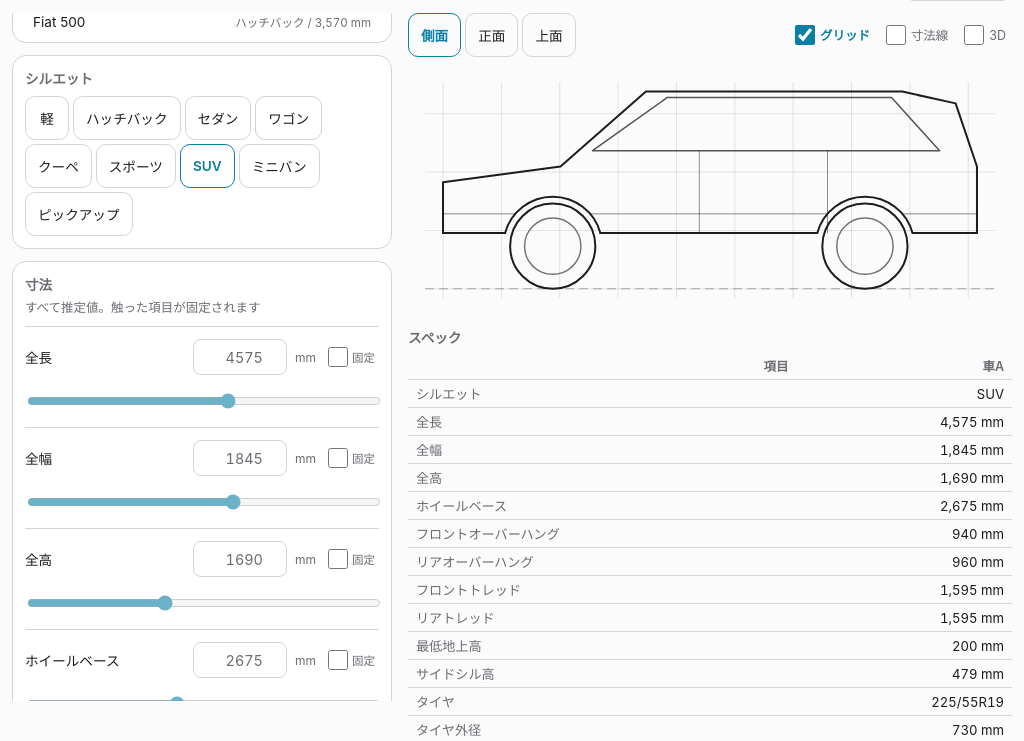
Scenario: App 寸法の変更とロック › すべて推定に戻すとロックが消える
The width and height of the screenshot is (1024, 741).
(page scrolled)
Click the 1st checkbox labelled "固定". click: (338, 357)
box: [328,347,348,367]
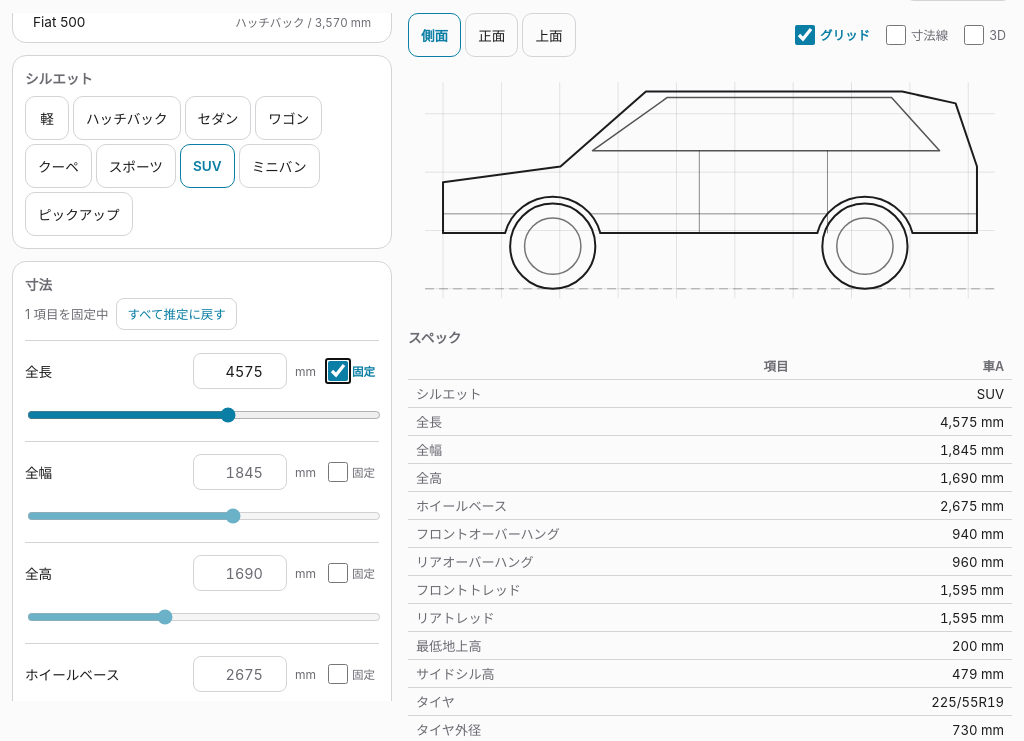
Click the 2nd checkbox labelled "固定". click: (338, 472)
box: [328,462,348,482]
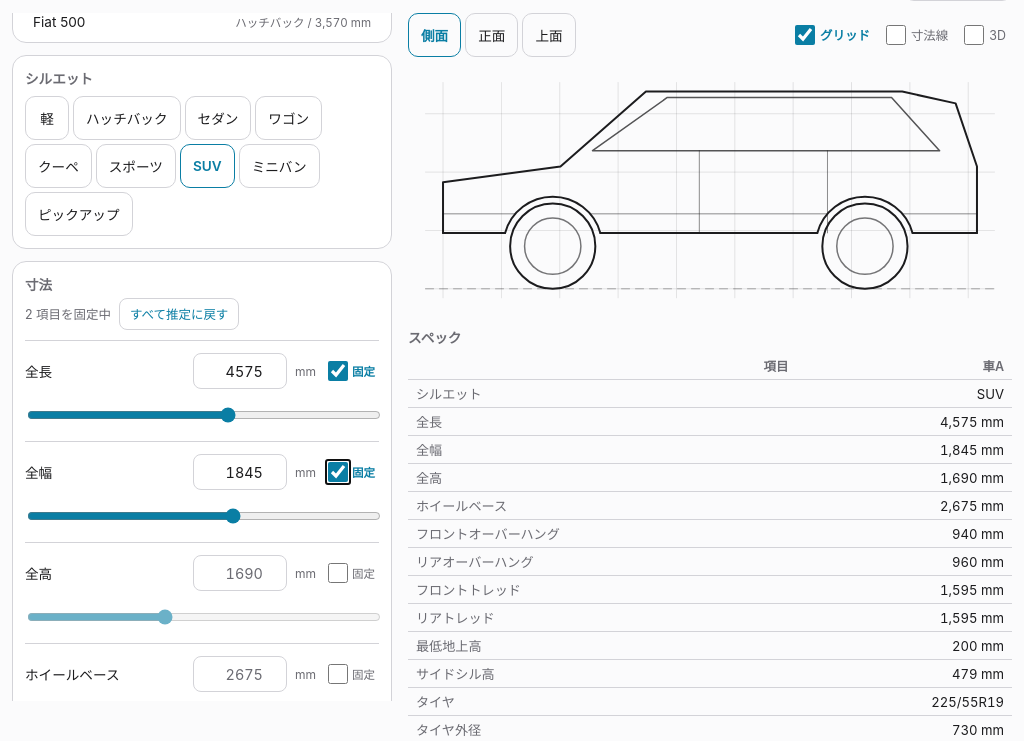
Expected: the text "2 項目を固定中 すべて推定に戻す" is shown, [25,298,239,330]
Click the button "すべて推定に戻す". click: (179, 314)
box: [119,298,239,330]
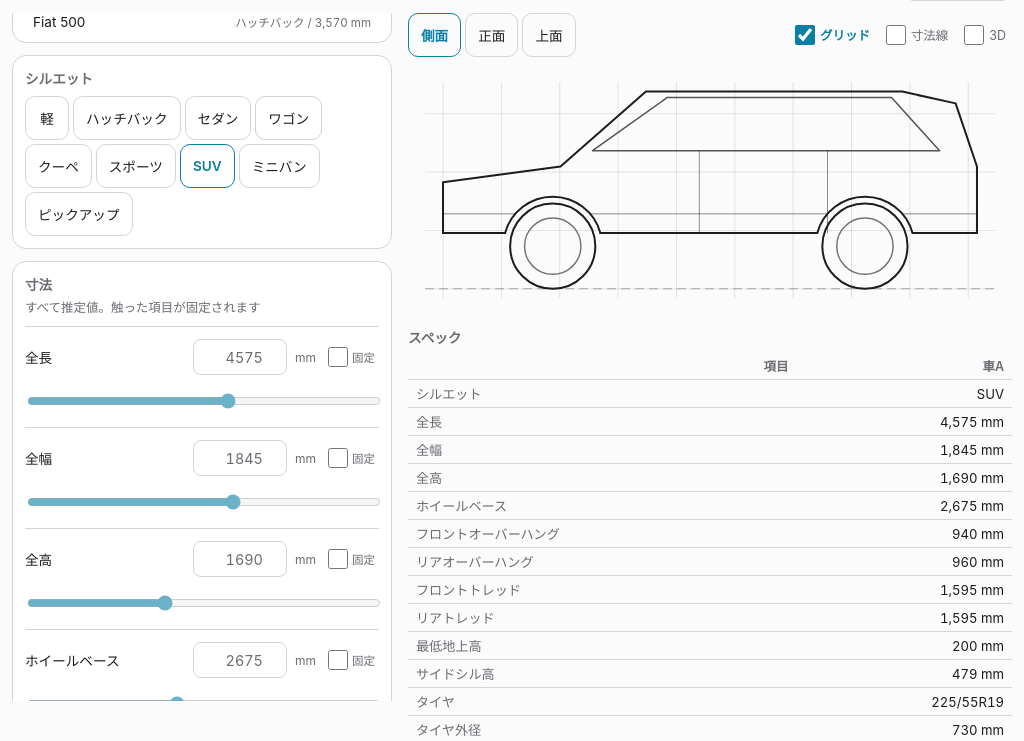
Expected: the text "すべて推定値。触った項目が固定されます" is shown, [25,300,260,315]
